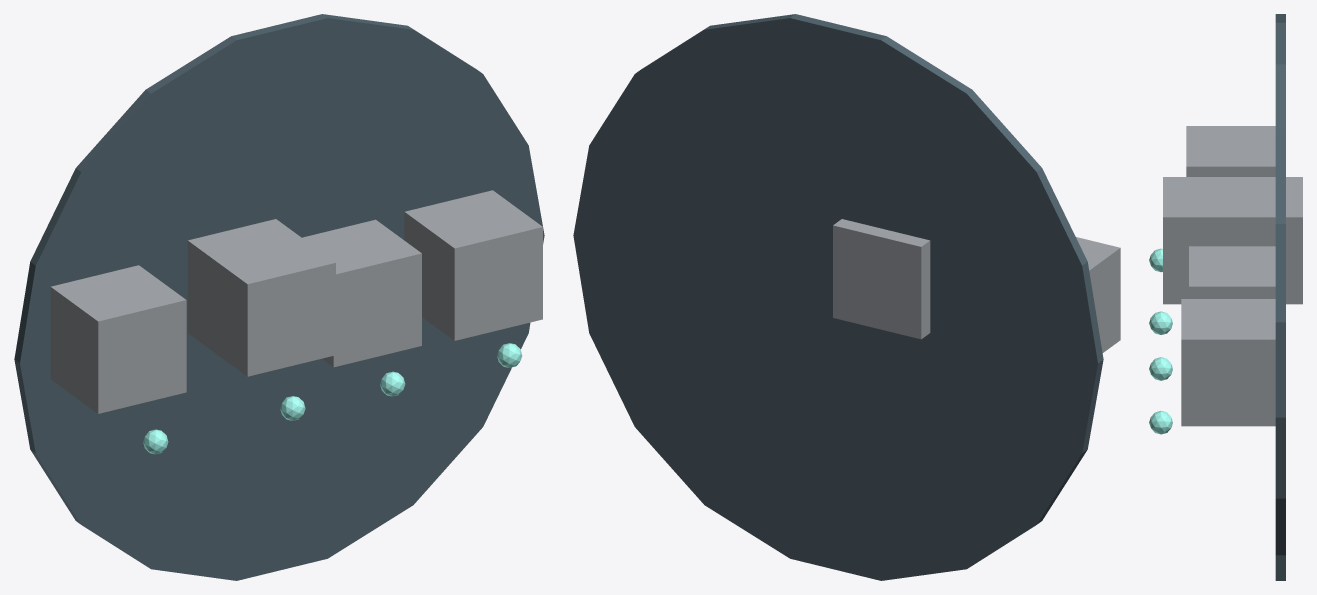
The model's file is 02_local_prop_cluster.glb.
The picture shows the model from 3 angles, left to right: view 1: azimuth 30°, elevation 25°; view 2: azimuth 150°, elevation 25°; view 3: azimuth 270°, elevation 25°; orthographic projection. The views are drawn at different scales.
Visible parts, largest first — view 1: scatter_base, tech_crate_1, tech_crate_0, tech_crate_3, tech_crate_2; view 2: scatter_base, tech_crate_1, tech_crate_0; view 3: tech_crate_3, tech_crate_1, scatter_base, tech_crate_2, tech_crate_0, status_light_1, status_light_2, status_light_3, status_light_0.
Part boxes in pixels (box(x1,y1,x2,y2)): scatter_base: box(14, 14, 544, 580); tech_crate_1: box(187, 219, 335, 376); tech_crate_0: box(50, 265, 186, 413); tech_crate_3: box(404, 190, 542, 340); tech_crate_2: box(302, 219, 421, 367); scatter_base: box(573, 14, 1103, 580); tech_crate_1: box(833, 219, 930, 339); tech_crate_0: box(1076, 237, 1120, 352); tech_crate_3: box(1181, 299, 1275, 426); tech_crate_1: box(1163, 177, 1302, 304); scatter_base: box(1275, 14, 1285, 580); tech_crate_2: box(1189, 246, 1275, 298); tech_crate_0: box(1186, 126, 1275, 176); status_light_1: box(1149, 311, 1172, 334); status_light_2: box(1149, 357, 1172, 380); status_light_3: box(1149, 411, 1172, 434); status_light_0: box(1149, 248, 1162, 272).
Bounding box in the file's own units: 1.9 × 1.87 × 0.5134.
